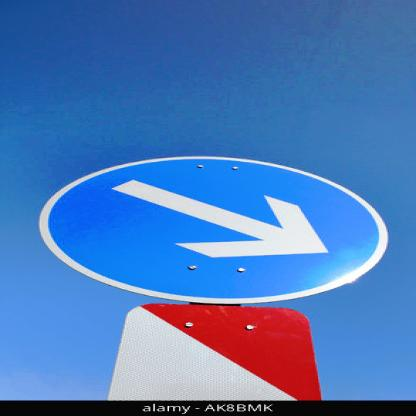Keep right: (50, 154, 398, 304)
